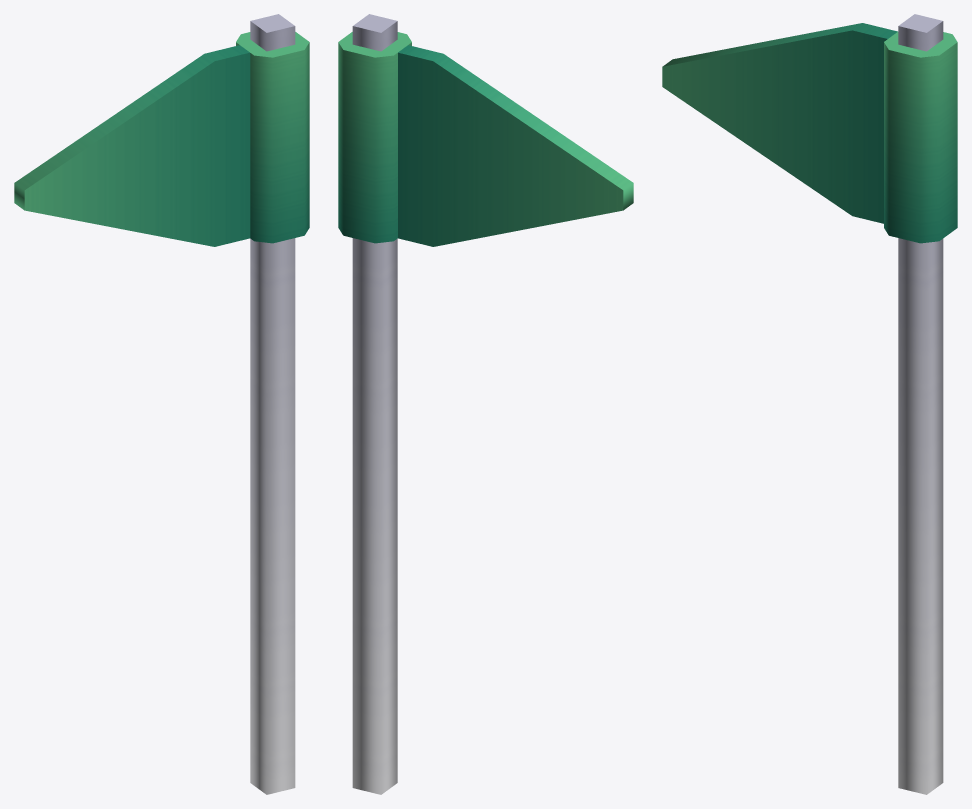
Rendered from flag-green.glb.
3 views of the same model, side by side, from view 1: azimuth 30°, elevation 25°; view 2: azimuth 150°, elevation 25°; view 3: azimuth 330°, elevation 25° (orthographic).
Visible parts, largest first — view 1: flag-green; view 2: flag-green; view 3: flag-green.
Part boxes in pixels (x1=…): flag-green: x1=14, y1=14, x2=309, y2=794; flag-green: x1=338, y1=14, x2=633, y2=794; flag-green: x1=662, y1=14, x2=957, y2=794.
Size of the model in its own units: 0.3956 by 1.02 by 0.0781.
1 material, 1 textured.
